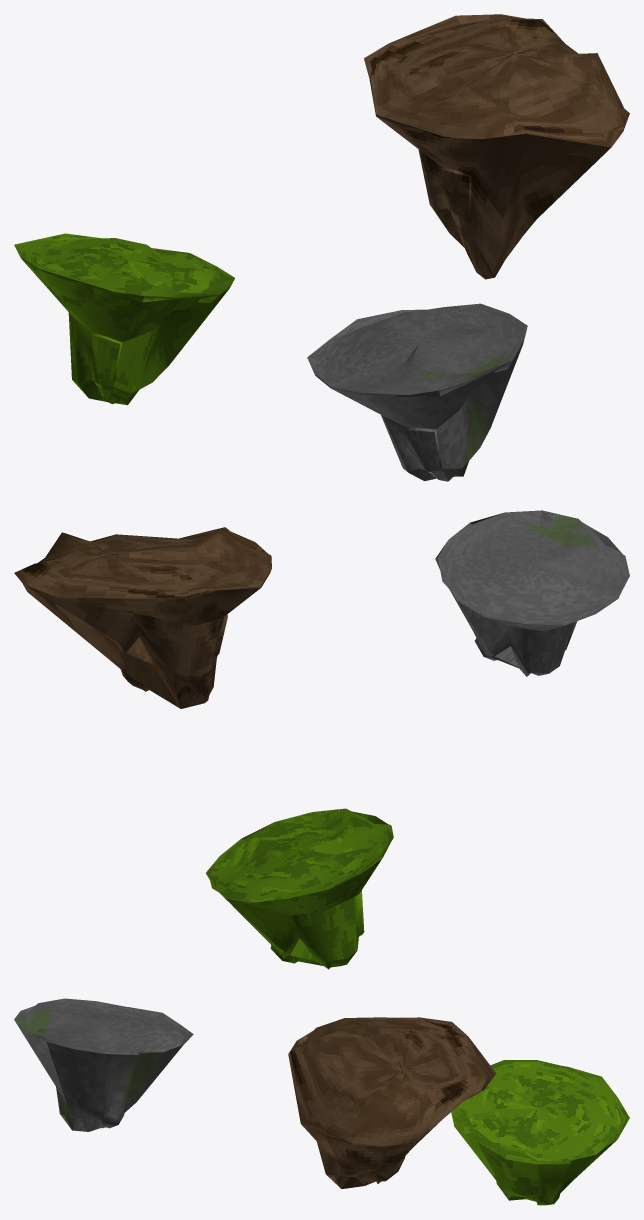
The model's file is kevIsland.obj.
3 views of the same model, one above another, from view 1: azimuth 30°, elevation 25°; view 2: azimuth 150°, elevation 25°; view 3: azimuth 270°, elevation 25° (orthographic). The views are drawn at different scales.
Visible parts, largest first — view 1: Sphere.002, Sphere.001, Sphere.003; view 2: Sphere.002, Sphere.001, Sphere.003; view 3: Sphere.002, Sphere.003, Sphere.001.
Part boxes in pixels (box(x1,y1,x2,y2)): Sphere.002: box(364, 14, 629, 279); Sphere.001: box(307, 303, 527, 481); Sphere.003: box(14, 233, 234, 405); Sphere.002: box(14, 527, 271, 708); Sphere.001: box(435, 510, 629, 676); Sphere.003: box(206, 808, 393, 969); Sphere.002: box(288, 1017, 496, 1188); Sphere.003: box(451, 1060, 629, 1205); Sphere.001: box(14, 998, 193, 1131).
Size of the model in its own units: 8.59 by 5.67 by 12.12.
3 materials, 3 textured.
